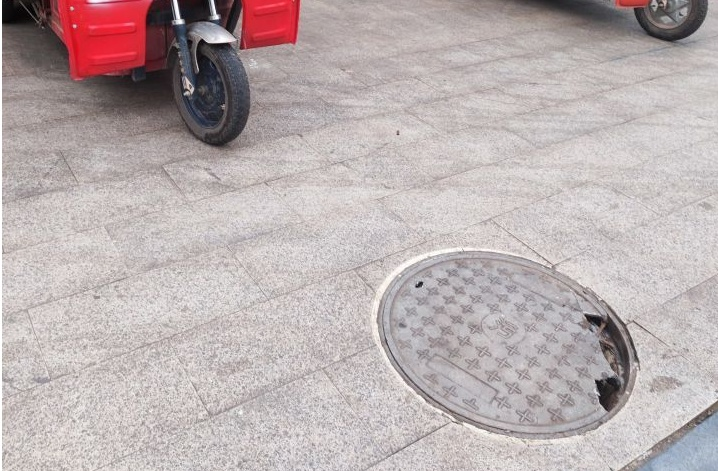well: (374, 247, 639, 434)
